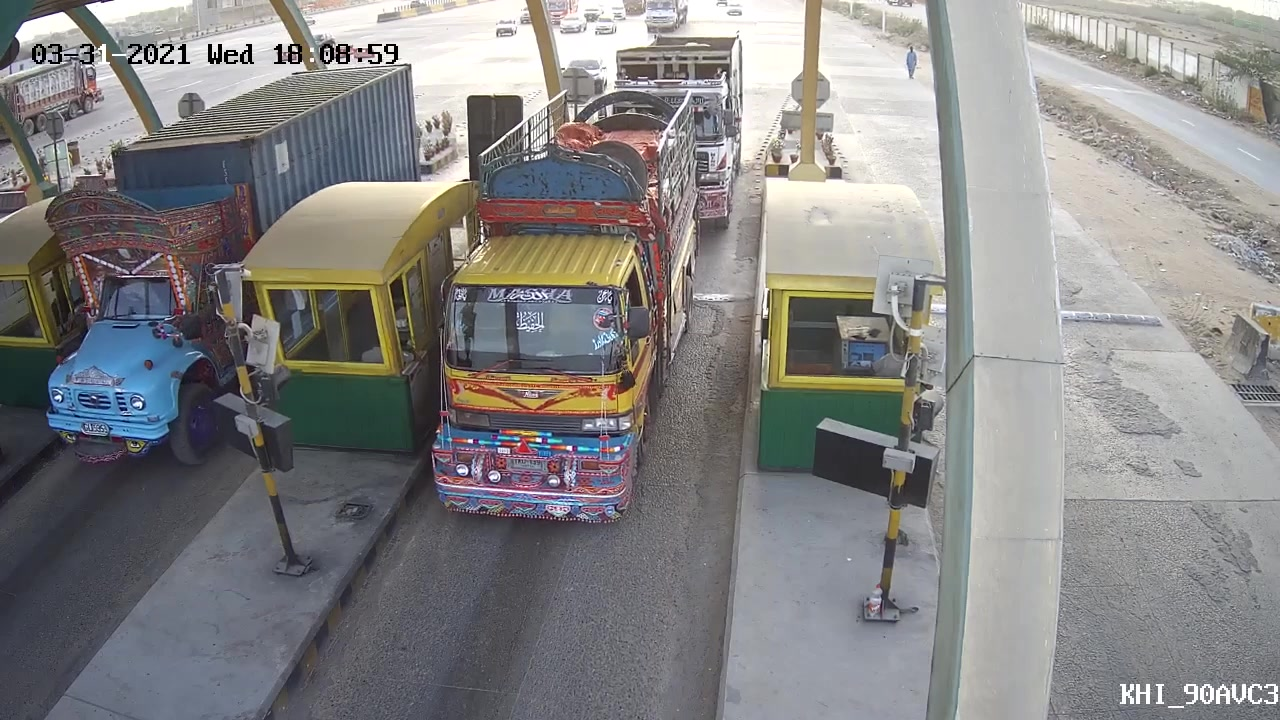F5: (416, 84, 709, 530)
